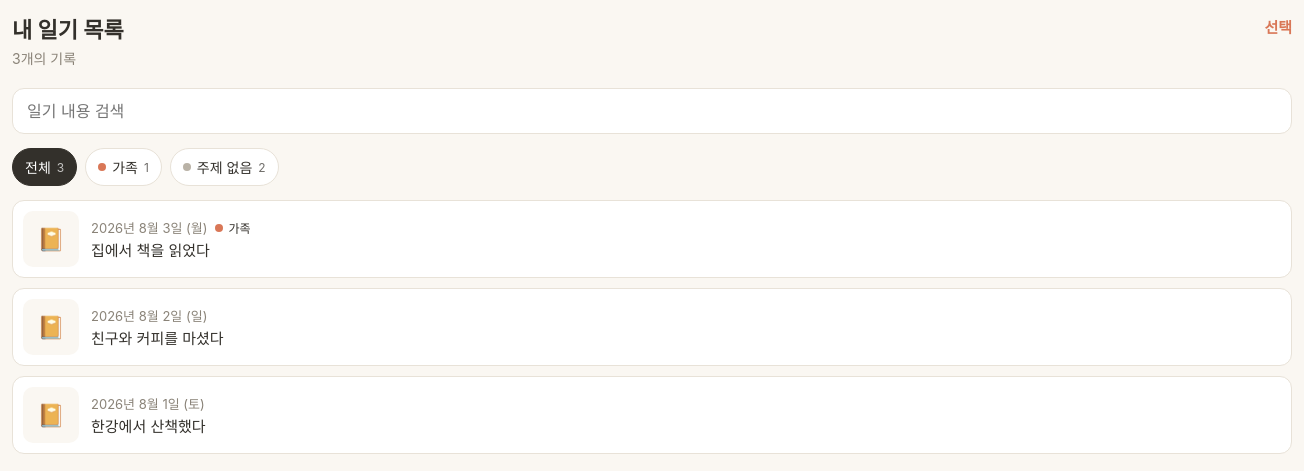
Test case: ListPage 주제 › 주제 칩으로 걸러 보고, 개수를 표시한다
The image size is (1304, 471).
Expected: the text "3개의 기록" is shown, [12,50,76,67]
Expected: the button "전체 3" is shown, [12,148,77,186]
Click the button "가족 1" at (124, 167), box [85,148,162,186]
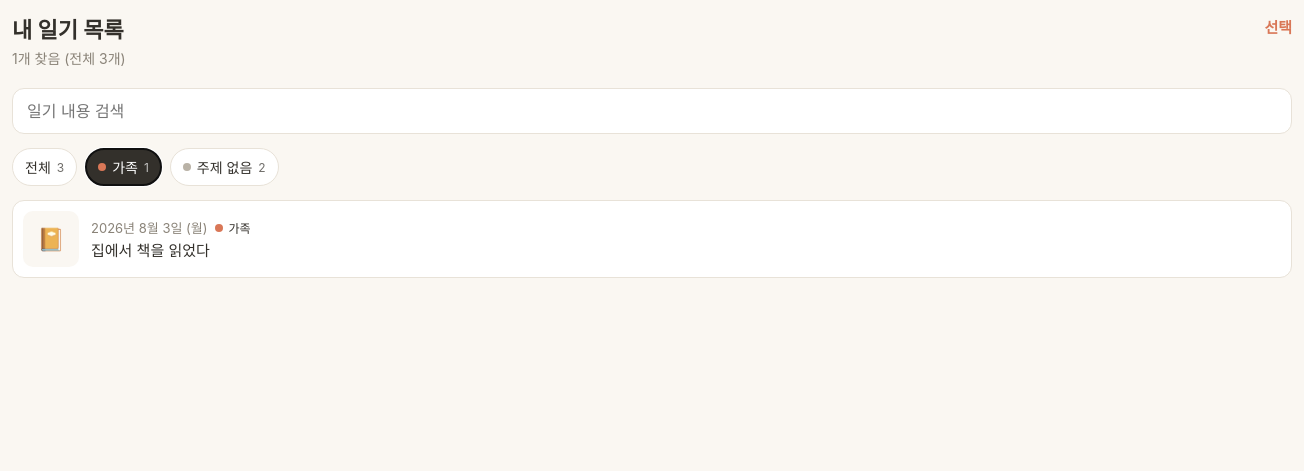
Expected: the text "집에서 책을 읽었다" is shown, [91,241,210,260]
Result: the text "1개 찾음 (전체 3개)" is shown at [12,48,126,68]
Result: the text "한강에서" is gone
Click the button "주제 없음 2" at (224, 167), box [170,148,279,186]
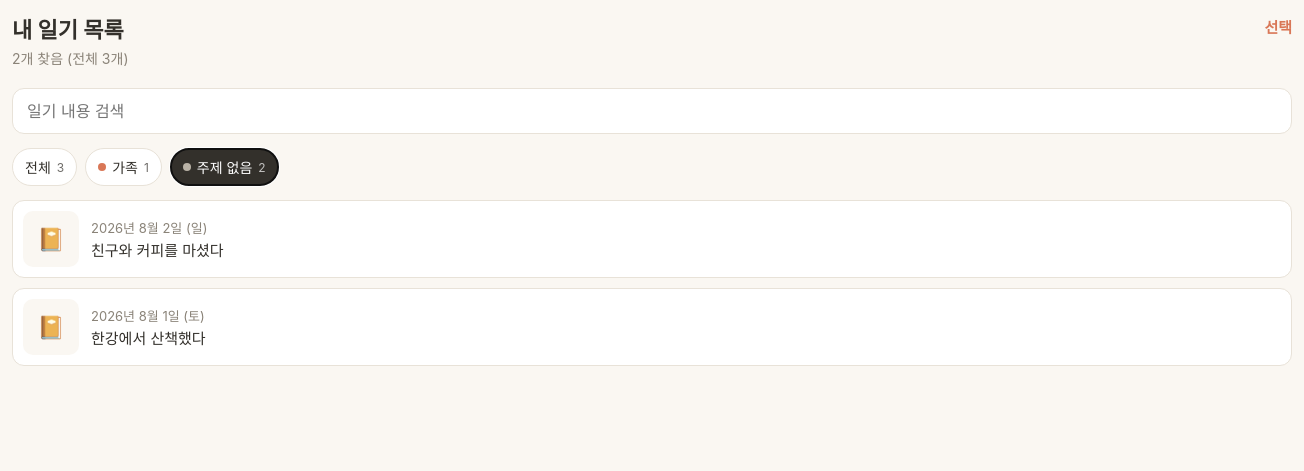
Result: the text "2개 찾음 (전체 3개)" is shown at [12,48,128,68]
Result: the text "집에서 책" is gone
